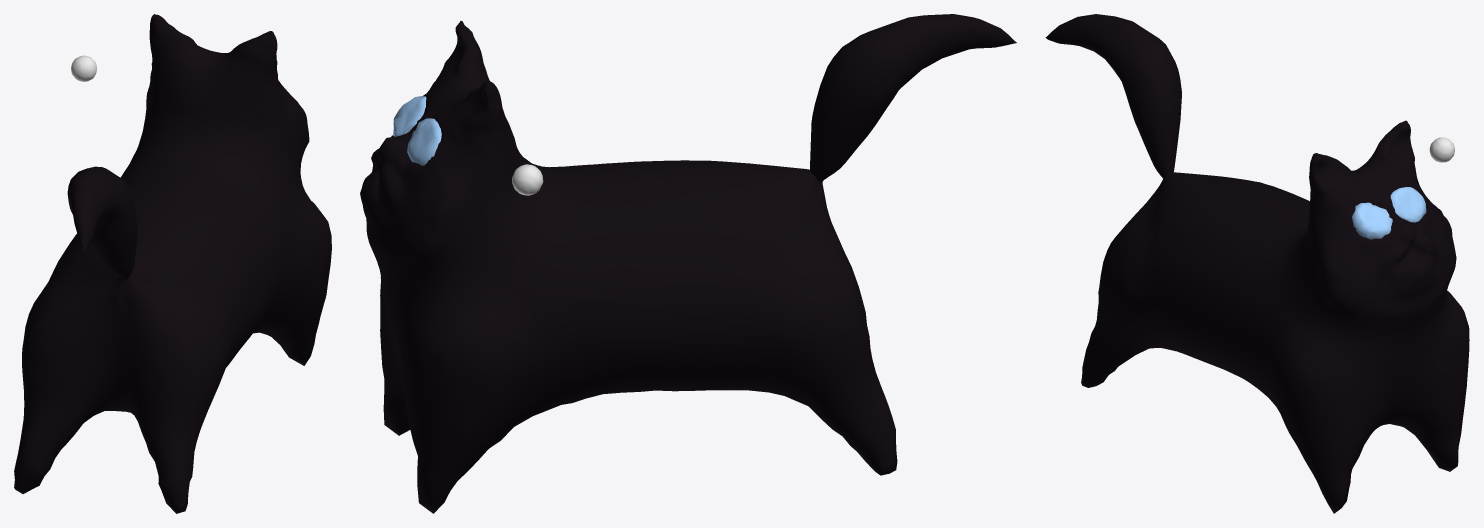
File: cat.fbx
3 renders of one model, left to right at view 1: azimuth 30°, elevation 25°; view 2: azimuth 150°, elevation 25°; view 3: azimuth 270°, elevation 25°, orthographic. The views are drawn at different scales.
Visible parts, largest first — view 1: Mball.011, Mball.001; view 2: Mball.011, Mball.002, Mball.001; view 3: Mball.011, Mball.002, Mball.001.
Boxes of the visible parts, <box> form: Mball.011: <box>14,14,331,513</box>; Mball.001: <box>71,55,96,81</box>; Mball.011: <box>360,14,1016,513</box>; Mball.002: <box>393,96,441,165</box>; Mball.001: <box>512,164,543,195</box>; Mball.011: <box>1045,14,1469,513</box>; Mball.002: <box>1352,187,1426,239</box>; Mball.001: <box>1429,137,1454,162</box>.
Bounding box in the file's own units: 493 × 431 × 486.
